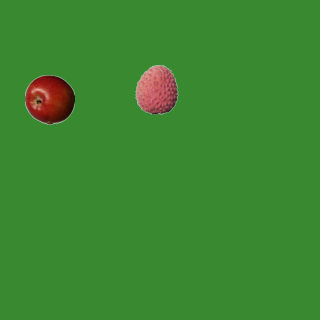Apple Braeburn: (24, 74, 74, 124)
Lychee: (131, 64, 181, 114)
